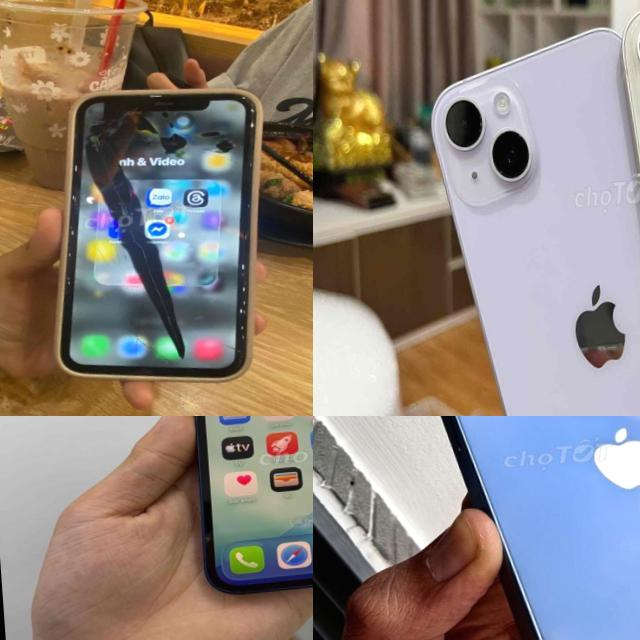gen_11: (55, 87, 260, 381)
gen_12_13: (183, 416, 313, 592)
gen_14: (407, 20, 640, 416), (408, 416, 640, 640)
physical_damage: (36, 88, 245, 378)
screen_defect: (53, 90, 257, 380)
